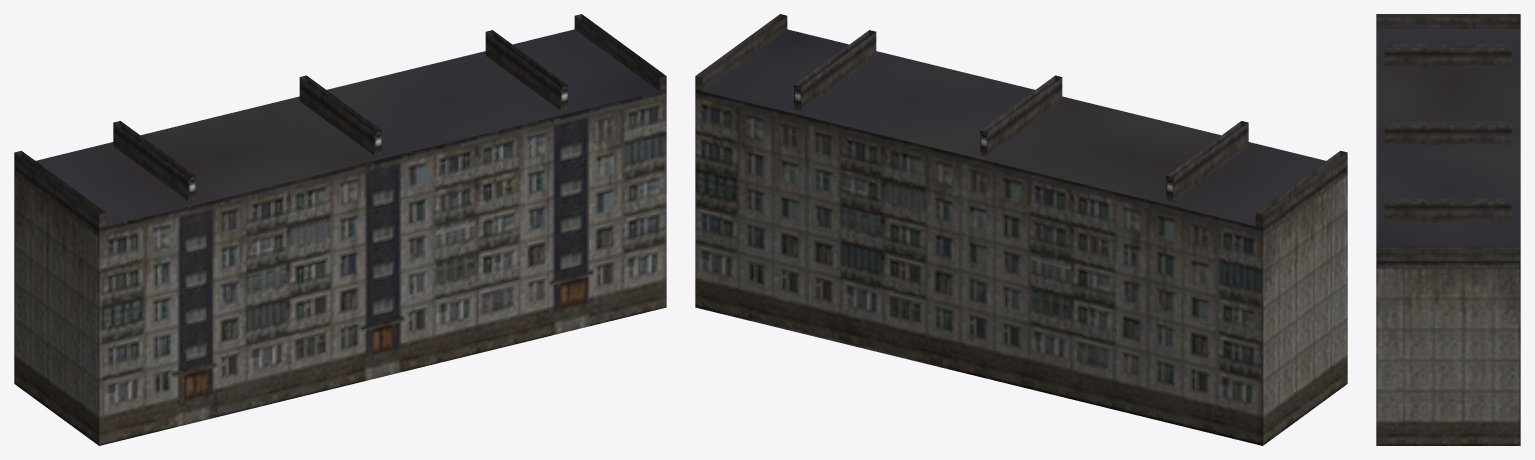
The model's file is 5floor_lod.fbx.
The picture shows the model from 3 angles, left to right: view 1: azimuth 30°, elevation 25°; view 2: azimuth 150°, elevation 25°; view 3: azimuth 270°, elevation 25°; orthographic projection. The views are drawn at different scales.
Parts seen in each view (by area): view 1: 1; view 2: 1; view 3: 1.
Part boxes in pixels (<box>): 1: <box>14,14,666,445</box>; 1: <box>695,14,1347,445</box>; 1: <box>1376,14,1520,445</box>.
Size of the model in its own units: 48.22 by 19.64 by 12.48.
